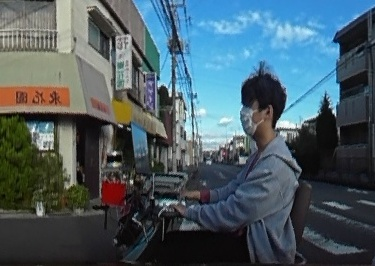person: (158, 72, 293, 266)
